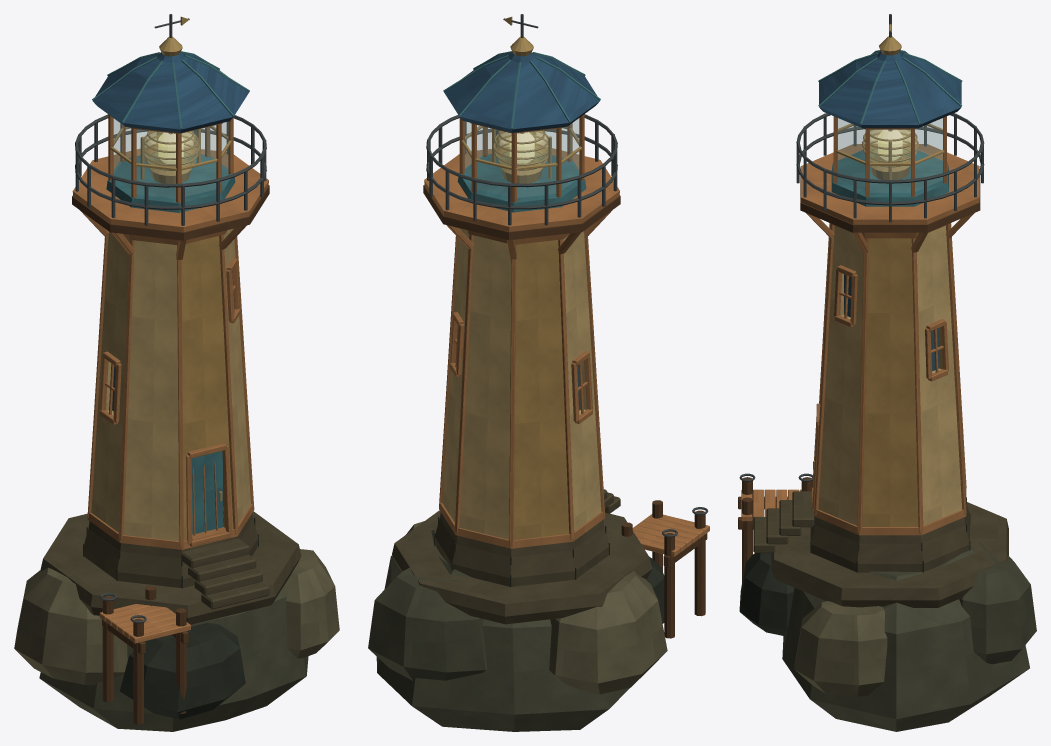
Rendered from lighthouse.glb.
3 views of the same model, side by side, from view 1: azimuth 30°, elevation 25°; view 2: azimuth 150°, elevation 25°; view 3: azimuth 270°, elevation 25° (orthographic). The views are drawn at different scales.
Visible parts, largest first — view 1: L26_Export_Ref_TR20_ivory, L26_Export_Ref_TR20_stone, L26_Export_Ref_TR20_wood, L26_Export_P25_rocklight, L26_Export_P25_rock, L26_Export_Ref_TR20_plaster, L26_Export_Ref_TN25_NavyRoof, L26_Export_P25_rockdark, L26_Export_Ref_TR20_deck, L26_Export_Ref_TR20_teal, L26_Export_L26_LanternGlass, L26_Export_Ref_TR20_beam (+3 smaller); view 2: L26_Export_P25_rock, L26_Export_Ref_TR20_ivory, L26_Export_Ref_TR20_stone, L26_Export_Ref_TR20_plaster, L26_Export_Ref_TR20_wood, L26_Export_P25_rocklight, L26_Export_Ref_TN25_NavyRoof, L26_Export_Ref_TR20_deck, L26_Export_L26_LanternGlass, L26_Export_Ref_TR20_beam, L26_Export_Ref_TR20_teal, L26_Export_Ref_D19_ForgedIron (+3 smaller); view 3: L26_Export_P25_rock, L26_Export_Ref_TR20_stone, L26_Export_Ref_TR20_ivory, L26_Export_Ref_TR20_plaster, L26_Export_Ref_TR20_wood, L26_Export_Ref_TN25_NavyRoof, L26_Export_P25_rocklight, L26_Export_Ref_TR20_deck, L26_Export_L26_LanternGlass, L26_Export_Ref_TR20_teal, L26_Export_Ref_D19_ForgedIron, L26_Export_P25_rockdark (+4 smaller).
Part boxes in pixels (x1,y1,x2,y2): L26_Export_Ref_TR20_ivory: [91, 228, 250, 541]; L26_Export_Ref_TR20_stone: [40, 511, 301, 624]; L26_Export_Ref_TR20_wood: [80, 114, 254, 549]; L26_Export_P25_rocklight: [14, 549, 339, 684]; L26_Export_P25_rock: [39, 586, 308, 731]; L26_Export_Ref_TR20_plaster: [181, 236, 233, 540]; L26_Export_Ref_TN25_NavyRoof: [93, 52, 248, 132]; L26_Export_P25_rockdark: [83, 517, 258, 719]; L26_Export_Ref_TR20_deck: [72, 146, 268, 643]; L26_Export_Ref_TR20_teal: [92, 51, 249, 534]; L26_Export_L26_LanternGlass: [113, 118, 228, 197]; L26_Export_Ref_TR20_beam: [72, 185, 269, 724]; L26_Export_P25_rock: [368, 529, 629, 731]; L26_Export_Ref_TR20_ivory: [442, 228, 601, 539]; L26_Export_Ref_TR20_stone: [392, 489, 652, 624]; L26_Export_Ref_TR20_plaster: [513, 240, 569, 539]; L26_Export_Ref_TR20_wood: [439, 114, 612, 548]; L26_Export_P25_rocklight: [406, 521, 667, 694]; L26_Export_Ref_TN25_NavyRoof: [444, 52, 599, 132]; L26_Export_Ref_TR20_deck: [424, 146, 709, 556]; L26_Export_L26_LanternGlass: [464, 118, 579, 197]; L26_Export_Ref_TR20_beam: [423, 184, 707, 638]; L26_Export_Ref_TR20_teal: [443, 51, 600, 212]; L26_Export_Ref_D19_ForgedIron: [426, 14, 708, 537]; L26_Export_P25_rock: [782, 542, 1036, 731]; L26_Export_Ref_TR20_stone: [753, 491, 1008, 607]; L26_Export_Ref_TR20_ivory: [818, 225, 961, 525]; L26_Export_Ref_TR20_plaster: [862, 238, 918, 526]; L26_Export_Ref_TR20_wood: [806, 116, 974, 535]; L26_Export_Ref_TN25_NavyRoof: [819, 51, 961, 128]; L26_Export_P25_rocklight: [794, 601, 887, 696]; L26_Export_Ref_TR20_deck: [741, 144, 979, 521]; L26_Export_L26_LanternGlass: [838, 118, 942, 192]; L26_Export_Ref_TR20_teal: [818, 50, 962, 206]; L26_Export_Ref_D19_ForgedIron: [739, 14, 984, 481]; L26_Export_P25_rockdark: [739, 497, 970, 636].
Bounding box in the file's own units: 4.89 × 11.42 × 4.6.
17 materials, 11 textured.
